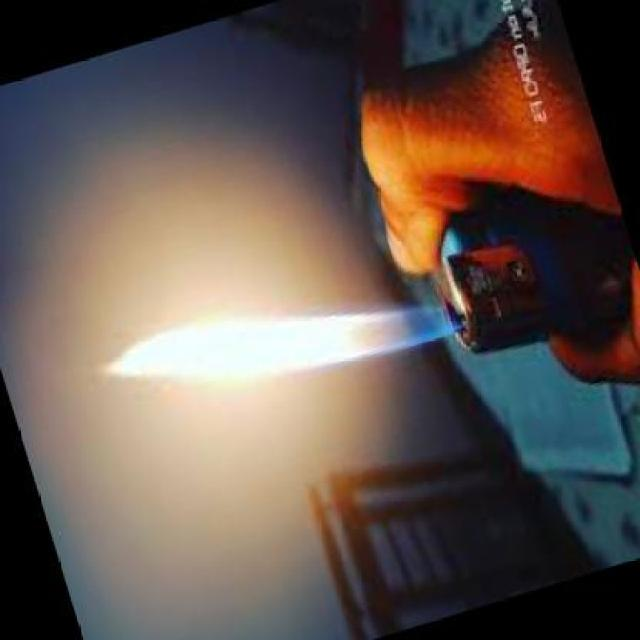Fire: (94, 300, 457, 385)
